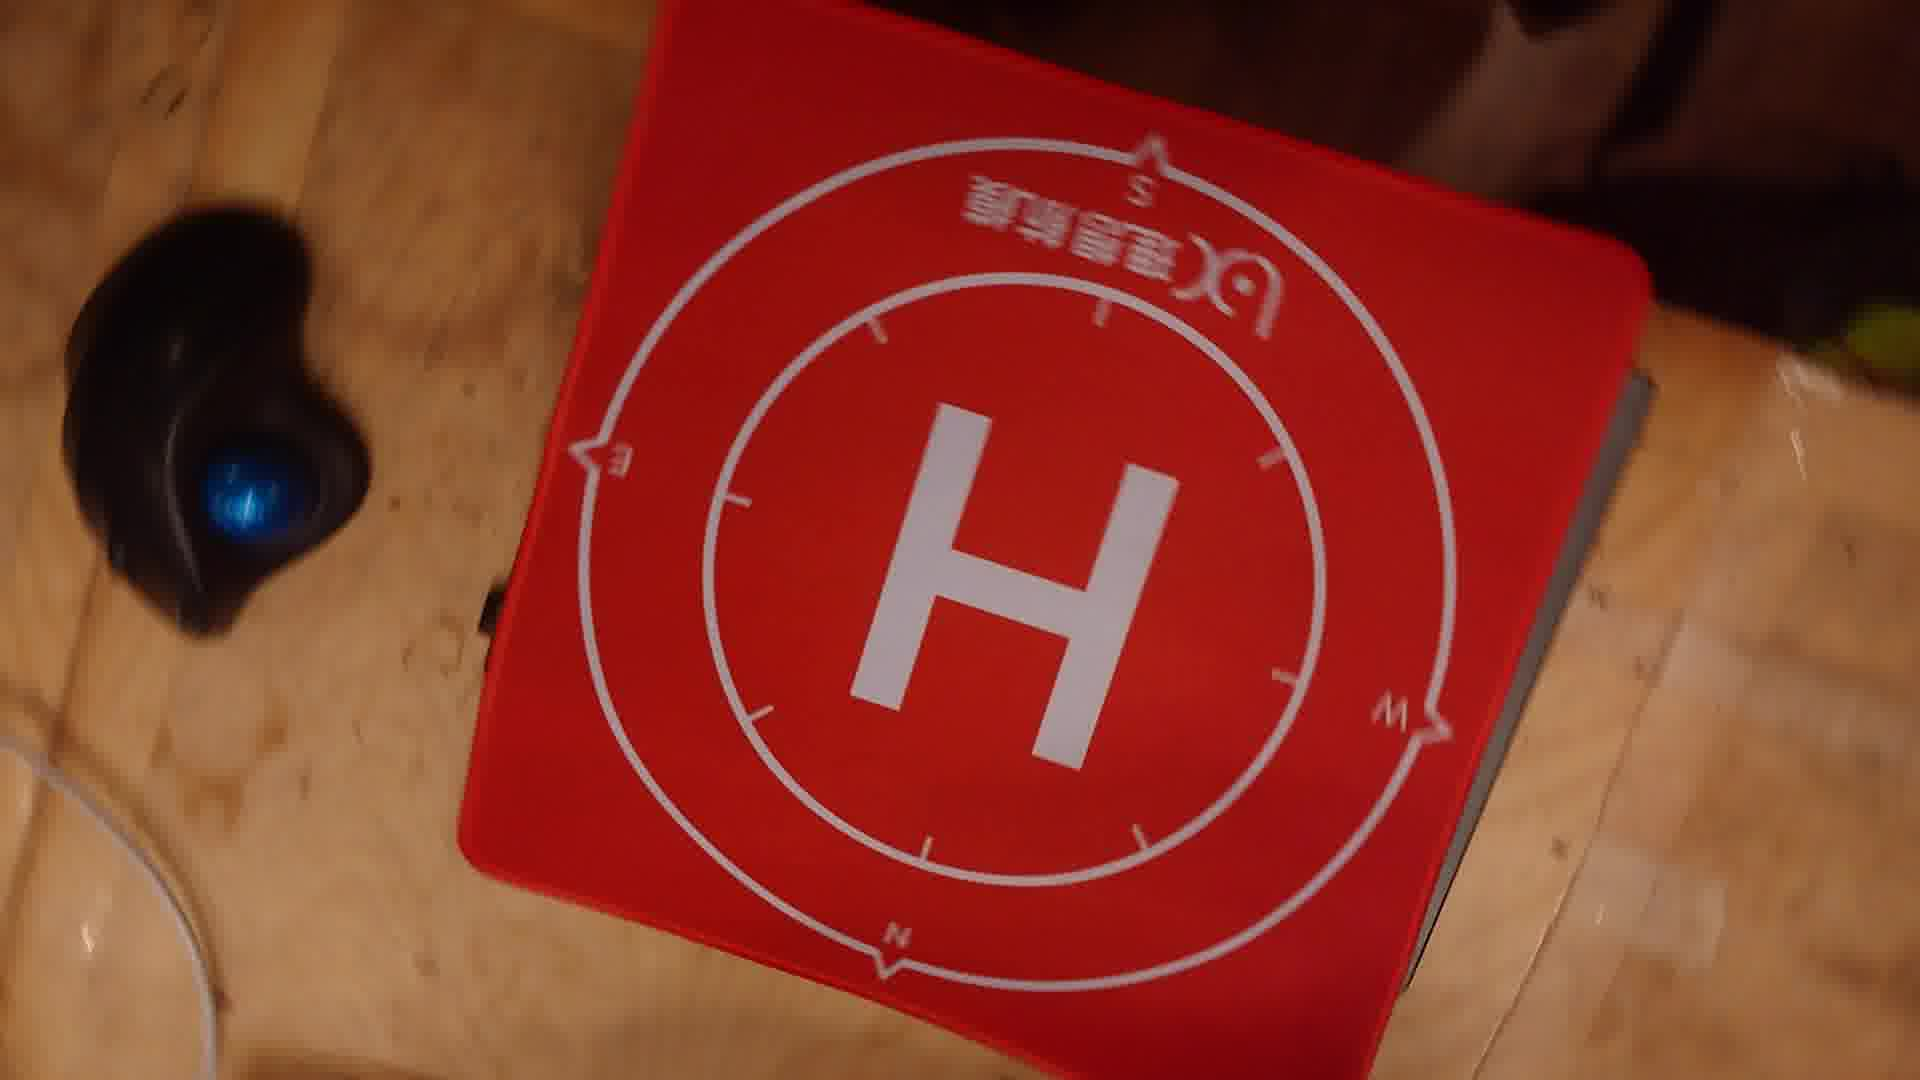H: (855, 402, 1175, 773)
